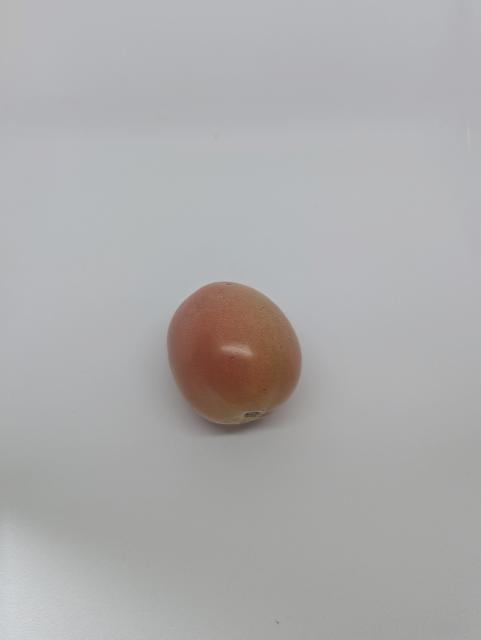turning: (158, 272, 311, 435)
